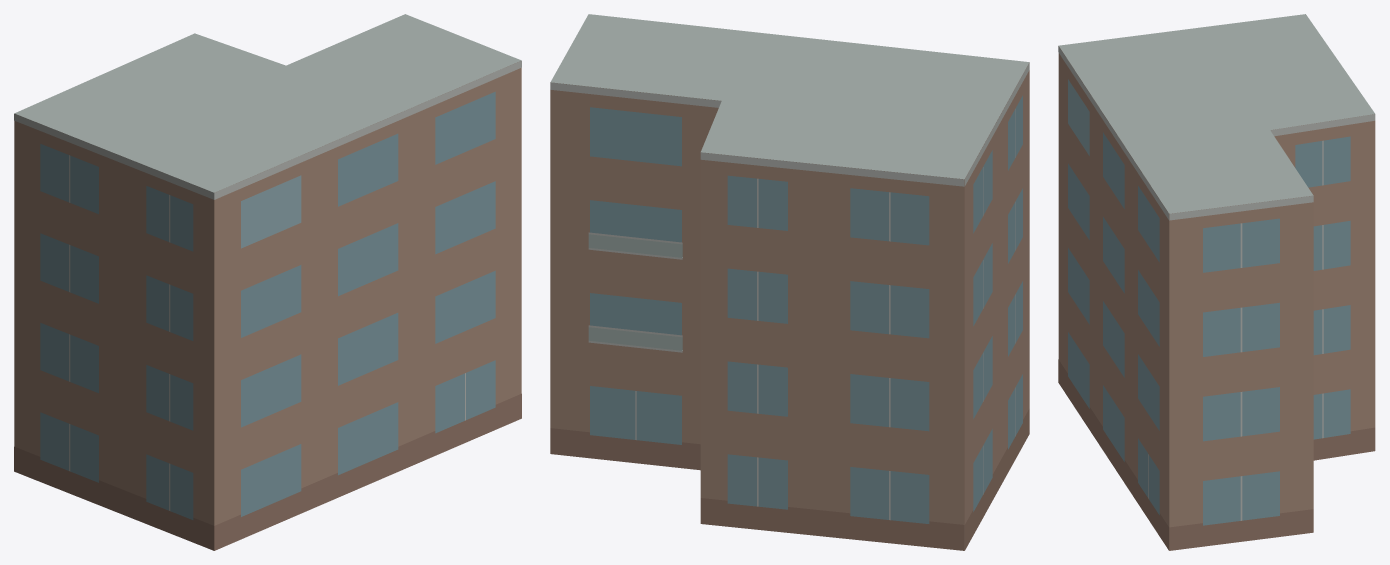
The model's file is survey-upis-32645135.glb.
3 views of the same model, side by side, from view 1: azimuth 30°, elevation 25°; view 2: azimuth 150°, elevation 25°; view 3: azimuth 270°, elevation 25° (orthographic). The views are drawn at different scales.
Visible parts, largest first — view 1: survey-upis-32645135.tmp; view 2: survey-upis-32645135.tmp; view 3: survey-upis-32645135.tmp.
Boxes of the visible parts, x1=… form: survey-upis-32645135.tmp: x1=14, y1=14, x2=521, y2=550; survey-upis-32645135.tmp: x1=550, y1=14, x2=1029, y2=550; survey-upis-32645135.tmp: x1=1058, y1=14, x2=1375, y2=550.
Size of the model in its own units: 15.52 by 12.2 by 10.4.
